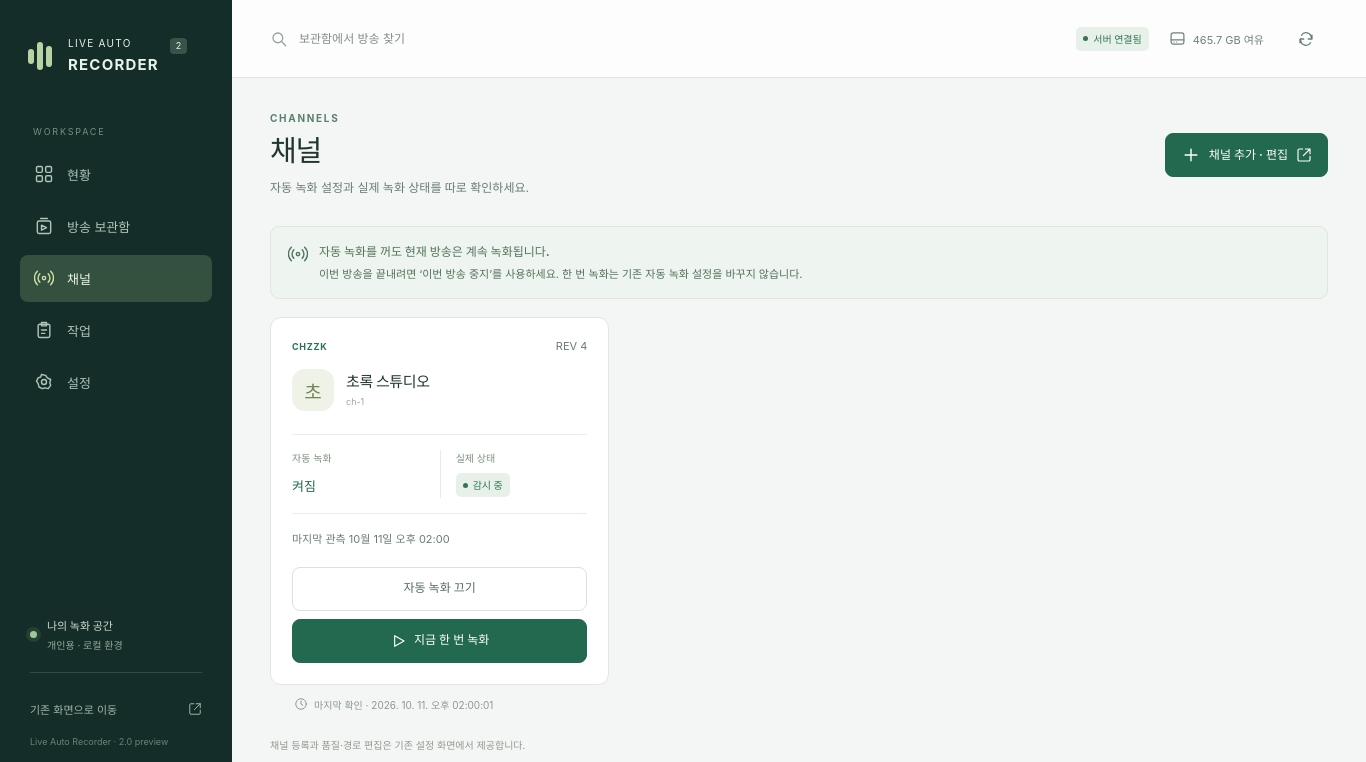
a revision conflict refetches and explains the latest state
Check: the heading "초록 스튜디오" is shown, box x1=346 y1=370 x2=430 y2=391
Click the button "자동 녹화 끄기".
click(440, 589)  # box x1=292 y1=567 x2=587 y2=611
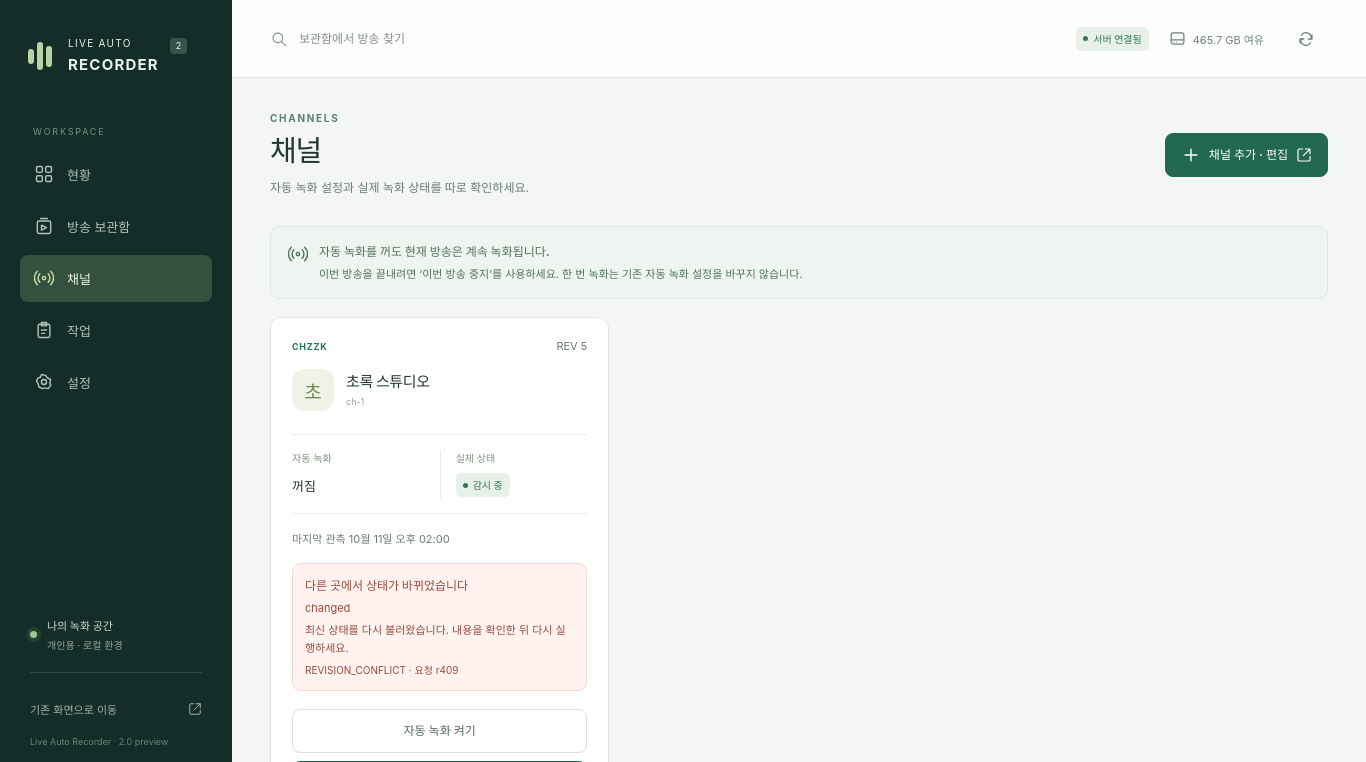
Check: the text "다른 곳에서 상태가 바뀌었습니다" is shown, box x1=305 y1=578 x2=468 y2=593
Check: the button "자동 녹화 켜기" is shown, box x1=292 y1=710 x2=587 y2=754
Check: the text "REVISION_CONFLICT · 요청 r409" is shown, box x1=305 y1=664 x2=458 y2=676
